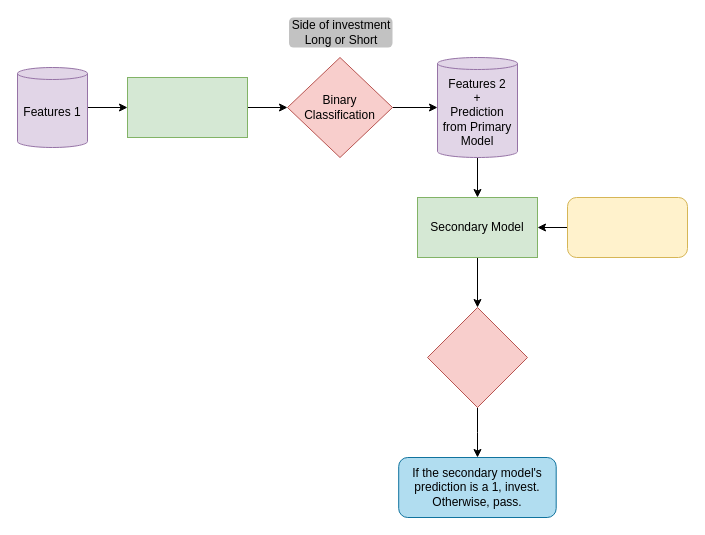
The diagram is 705 pixels wide and 535 high, and some of its shapes have lost their labels. The shapes that lost their labels are listed below. From the top down, each one's centre as x and y in pixels, then its label:
[187,107]: Primary Model
[627,227]: Meta Labels {0, 1}
[477,357]: Primary Model Correct
